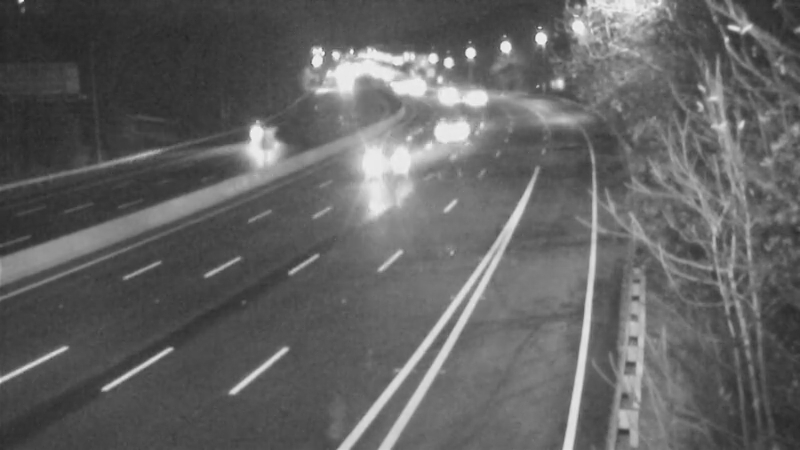vehicle: (347, 115, 427, 195), (413, 64, 463, 114), (448, 69, 498, 119), (418, 100, 468, 150), (243, 119, 293, 169)
